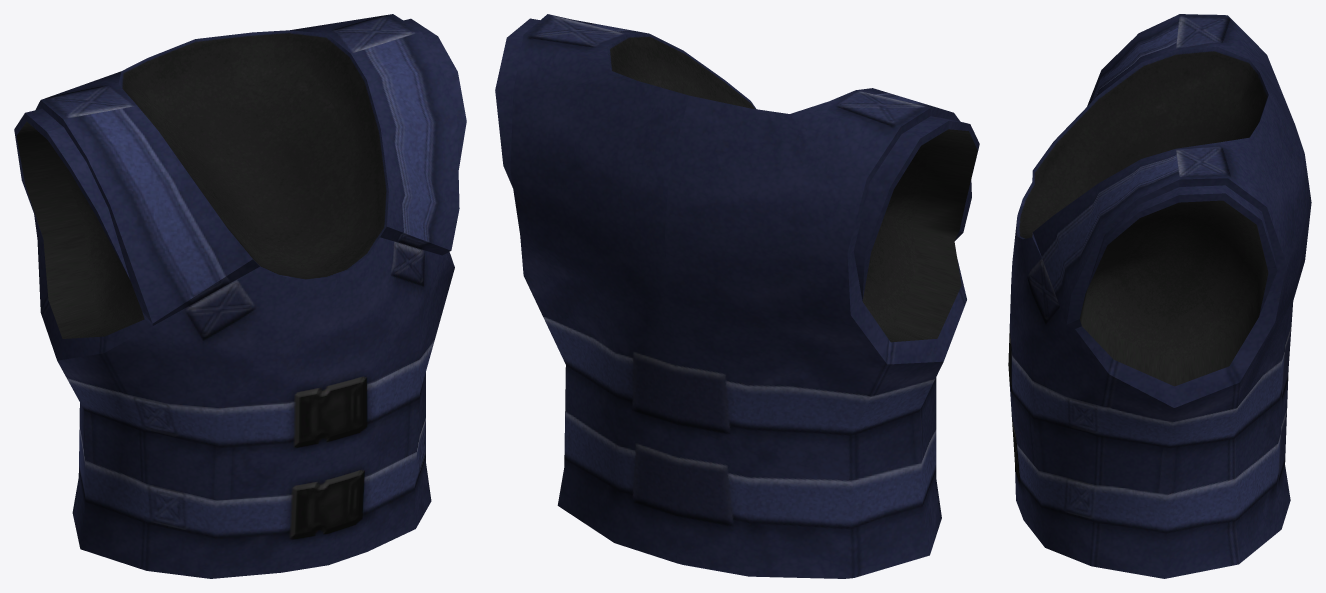
Rendered from SM_Pickup_Armor.obj.
3 renders of one model, left to right at view 1: azimuth 30°, elevation 25°; view 2: azimuth 150°, elevation 25°; view 3: azimuth 270°, elevation 25°, orthographic. The views are drawn at different scales.
Visible parts, largest first — view 1: SM_Pickup_Armor; view 2: SM_Pickup_Armor; view 3: SM_Pickup_Armor.
Part boxes in pixels (bbox=[...]): SM_Pickup_Armor: bbox=[14, 14, 466, 578]; SM_Pickup_Armor: bbox=[495, 14, 979, 578]; SM_Pickup_Armor: bbox=[1008, 14, 1311, 578].
Size of the model in its own units: 0.4195 by 0.445 by 0.2972.
Materials: 1 (1 with a texture image).
